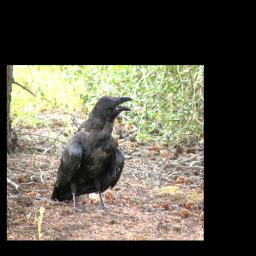Crow: (49, 95, 134, 215)
